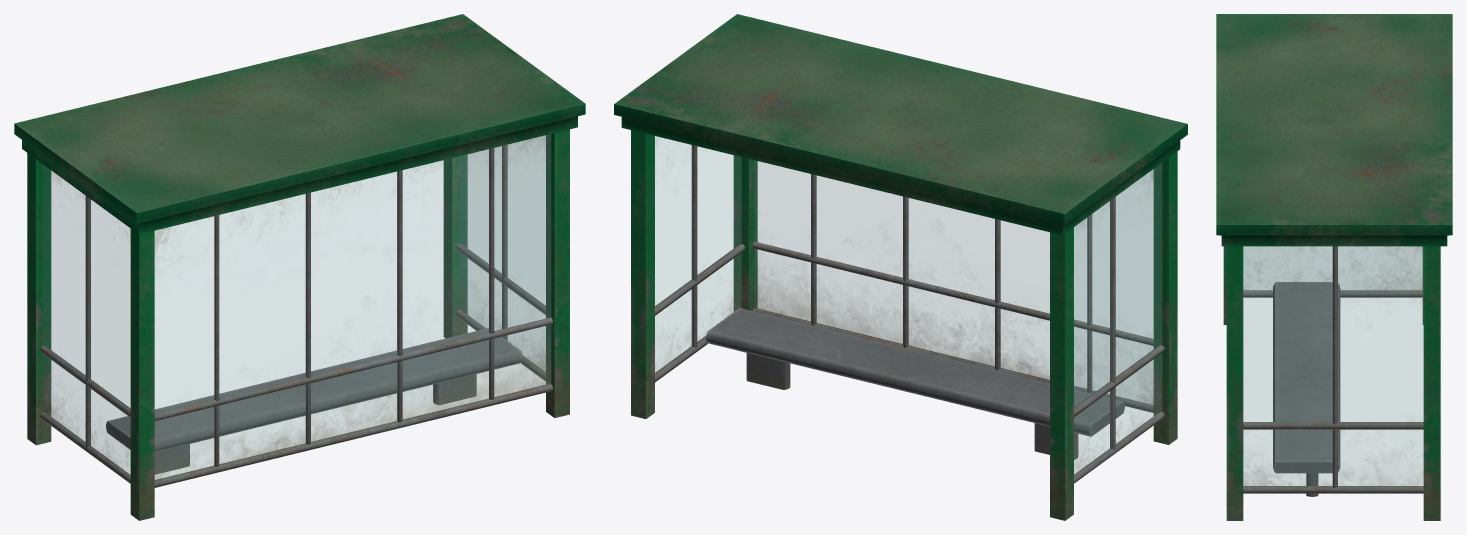
Rendered from Bus_Stop_1.glb.
The picture shows the model from 3 angles, left to right: view 1: azimuth 30°, elevation 25°; view 2: azimuth 150°, elevation 25°; view 3: azimuth 270°, elevation 25°; orthographic projection. The views are drawn at different scales.
Parts seen in each view (by area): view 1: Bus_Stop_1__LOD2; view 2: Bus_Stop_1__LOD2; view 3: Bus_Stop_1__LOD2.
Boxes of the visible parts, left/top/right/bottom form: Bus_Stop_1__LOD2: left=14, top=14, right=585, bottom=520; Bus_Stop_1__LOD2: left=614, top=14, right=1187, bottom=520; Bus_Stop_1__LOD2: left=1216, top=14, right=1452, bottom=520.
Size of the model in its own units: 5.5 by 3.65 by 2.6.
Materials: 1 (1 with a texture image).
